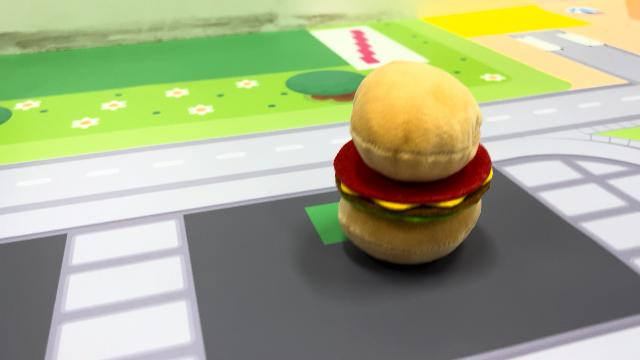burger: (329, 56, 497, 268)
